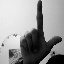l: (17, 1, 63, 58)
